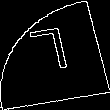L_S: (31, 27, 79, 83)
